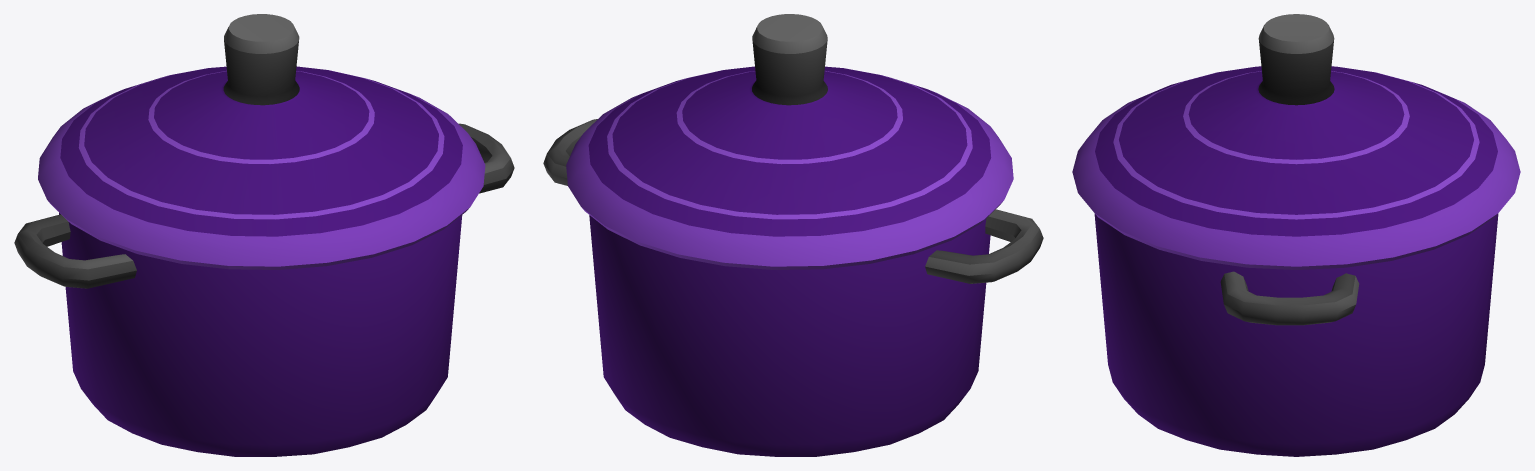
Rendered from Pan_5.fbx.
The picture shows the model from 3 angles, left to right: view 1: azimuth 30°, elevation 25°; view 2: azimuth 150°, elevation 25°; view 3: azimuth 270°, elevation 25°; orthographic projection.
Parts seen in each view (by area): view 1: Pan_5 Top, Pan_5; view 2: Pan_5 Top, Pan_5; view 3: Pan_5 Top, Pan_5.
Part boxes in pixels (x1,y1,x2,y2): Pan_5 Top: (38, 14, 485, 269); Pan_5: (14, 123, 514, 456); Pan_5 Top: (566, 14, 1013, 269); Pan_5: (543, 119, 1043, 456); Pan_5 Top: (1072, 14, 1520, 269); Pan_5: (1094, 213, 1498, 456).
Bounding box in the file's own units: 0.2465 × 0.1788 × 0.2049.
